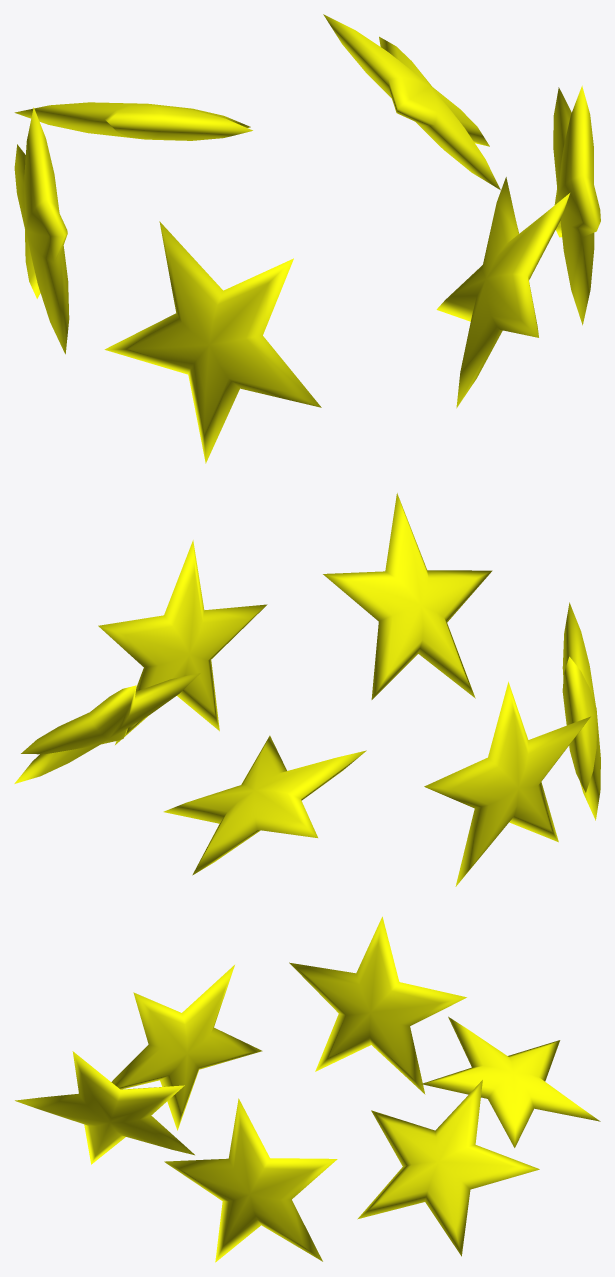
File: scene-no-animations.glb
The picture shows the model from 3 angles, top to bottom: view 1: azimuth 30°, elevation 25°; view 2: azimuth 150°, elevation 25°; view 3: azimuth 270°, elevation 25°; orthographic projection. The views are drawn at different scales.
Parts seen in each view (by area): view 1: star5, star6, Star2, star4, Star1, star3; view 2: star6, star4, Star1, star3, Star2, star5; view 3: Star2, star4, Star1, star5, star3, star6.
Part boxes in pixels (left/top/right/bottom): star5: left=104, top=221, right=321, bottom=463; star6: left=436, top=177, right=569, bottom=408; Star2: left=323, top=14, right=500, bottom=190; star4: left=14, top=107, right=69, bottom=354; Star1: left=553, top=85, right=600, bottom=325; star3: left=14, top=102, right=252, bottom=140; star6: left=323, top=493, right=492, bottom=699; star4: left=424, top=681, right=590, bottom=886; Star1: left=98, top=540, right=267, bottom=744; star3: left=163, top=735, right=366, bottom=875; Star2: left=14, top=673, right=200, bottom=783; star5: left=562, top=602, right=600, bottom=820; Star2: left=357, top=1080, right=539, bottom=1256; star4: left=289, top=916, right=466, bottom=1094; Star1: left=164, top=1098, right=337, bottom=1262; star5: left=111, top=965, right=262, bottom=1130; star3: left=421, top=1016, right=600, bottom=1147; star6: left=15, top=1051, right=194, bottom=1164.
Size of the model in its own units: 2.54 by 1.19 by 3.15.
